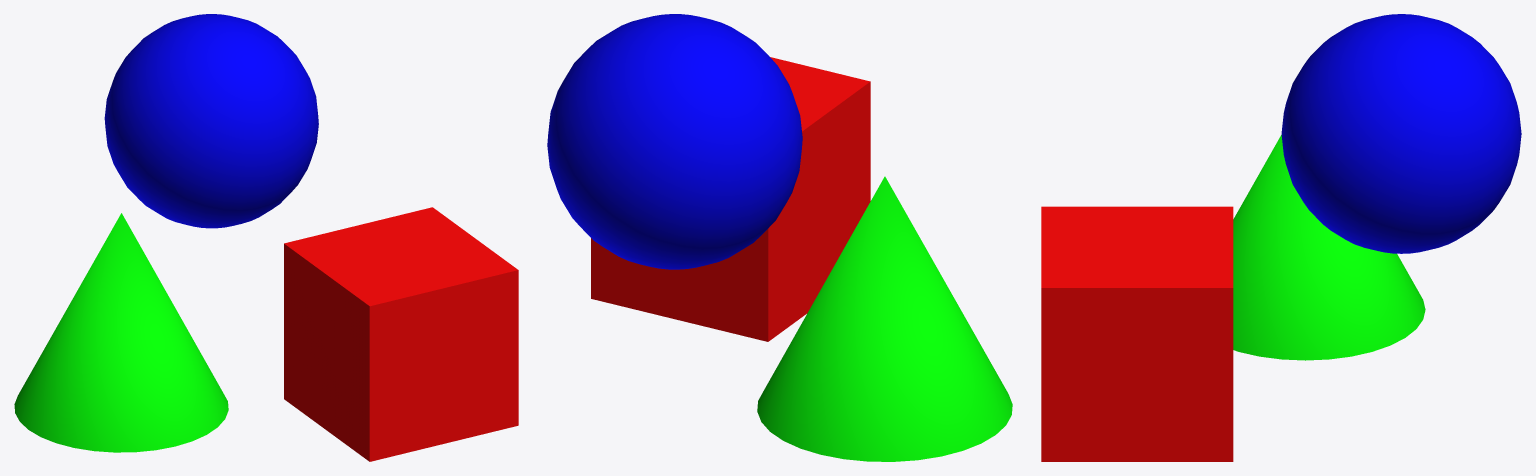
File: standard.glb
3 renders of one model, left to right at view 1: azimuth 30°, elevation 25°; view 2: azimuth 150°, elevation 25°; view 3: azimuth 270°, elevation 25°, orthographic. The views are drawn at different scales.
Visible parts, largest first — view 1: Cone; view 2: Cone; view 3: Cone.
Part boxes in pixels (x1,y1,x2,y2): Cone: [14, 14, 518, 461]; Cone: [547, 14, 1012, 461]; Cone: [1041, 14, 1521, 461].
Bounding box in the file's own units: 2 × 1.64 × 2.
